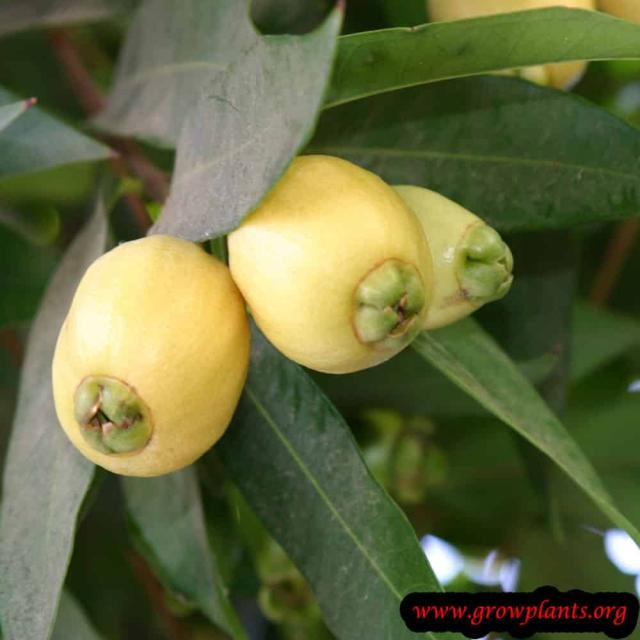Medicinal-Rose Apple: (0, 6, 640, 593)
